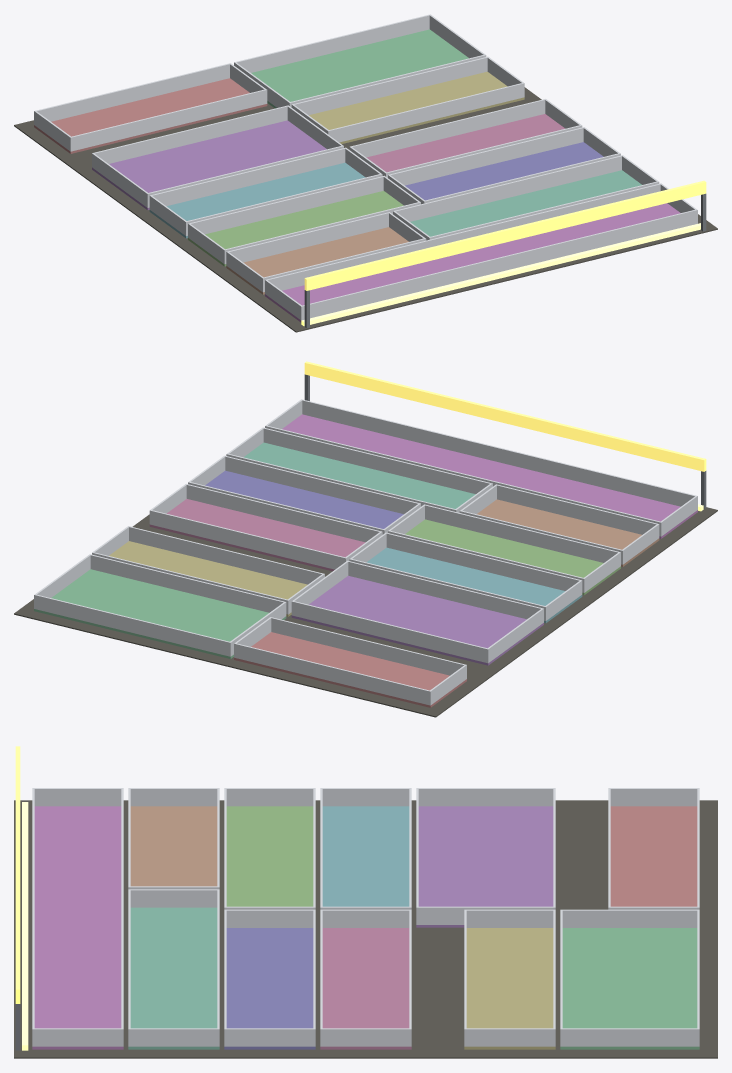
The model's file is hall-wastewater.glb.
The picture shows the model from 3 angles, top to bottom: view 1: azimuth 30°, elevation 25°; view 2: azimuth 150°, elevation 25°; view 3: azimuth 270°, elevation 25°; orthographic projection. The views are drawn at different scales.
Parts seen in each view (by area): view 1: Wastewater Operators; view 2: Wastewater Operators; view 3: Wastewater Operators.
Boxes of the visible parts, <box> form: Wastewater Operators: <box>14,14,717,332</box>; Wastewater Operators: <box>14,361,717,717</box>; Wastewater Operators: <box>14,746,717,1058</box>.
Size of the model in its own units: 38 by 4.3 by 44.
